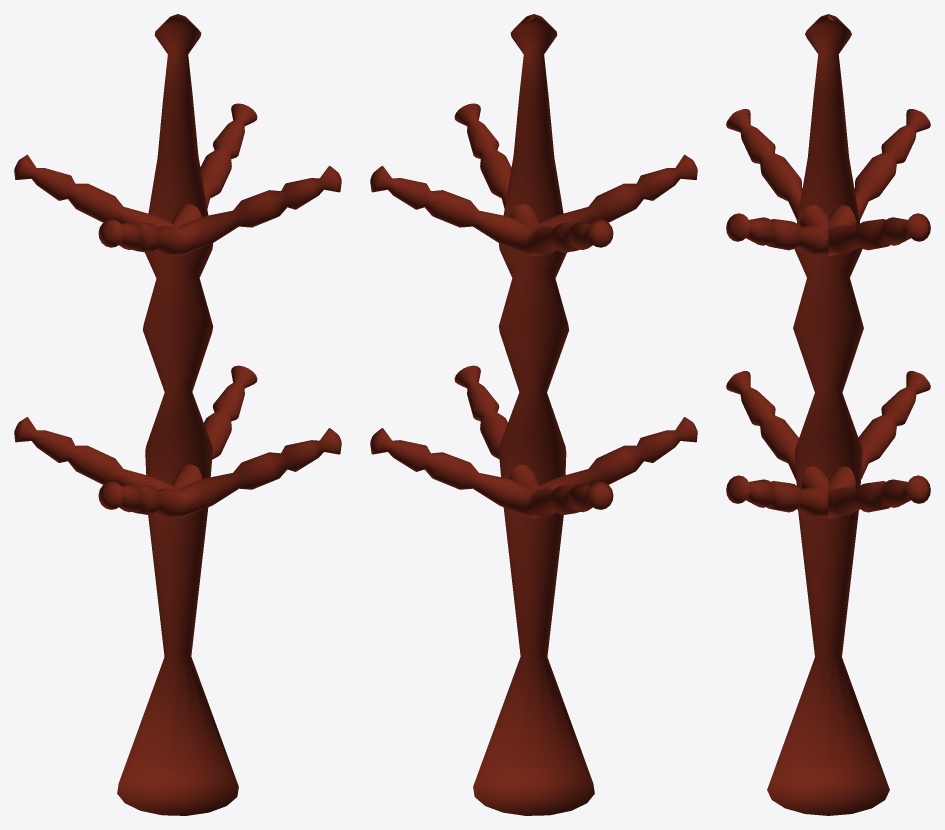
Rendered from teste.glb.
The picture shows the model from 3 angles, left to right: view 1: azimuth 30°, elevation 25°; view 2: azimuth 150°, elevation 25°; view 3: azimuth 270°, elevation 25°; orthographic projection.
Parts seen in each view (by area): view 1: Circle, Circle.001, Circle.002; view 2: Circle, Circle.001, Circle.002; view 3: Circle, Circle.001, Circle.002.
Boxes of the visible parts, x1=… form: Circle: x1=117, y1=14, x2=238, y2=815; Circle.001: x1=14, y1=103, x2=341, y2=256; Circle.002: x1=14, y1=365, x2=341, y2=518; Circle: x1=473, y1=14, x2=594, y2=815; Circle.001: x1=370, y1=103, x2=697, y2=256; Circle.002: x1=370, y1=365, x2=697, y2=518; Circle: x1=767, y1=14, x2=889, y2=815; Circle.001: x1=726, y1=109, x2=930, y2=256; Circle.002: x1=726, y1=371, x2=930, y2=518.
Size of the model in its own units: 0.592 by 1.83 by 0.4386.
2 materials, 2 textured.
